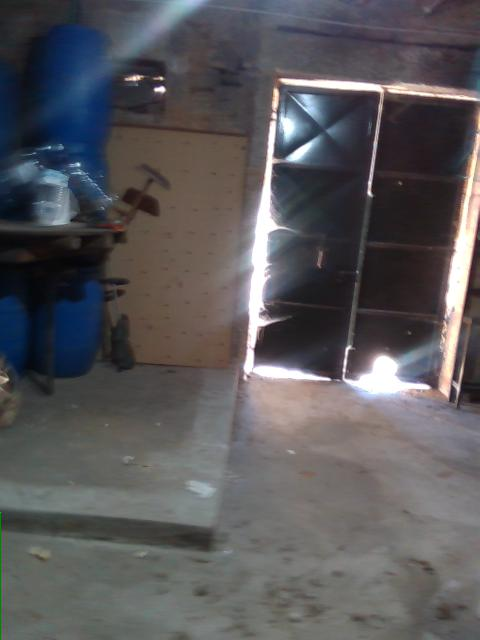door: (244, 78, 477, 396)
